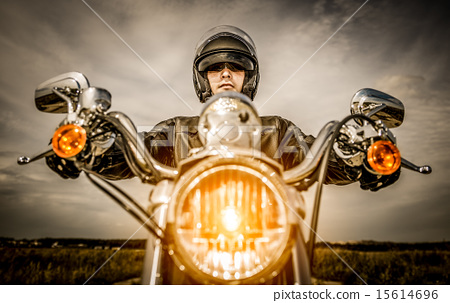helmet: (191, 28, 273, 99)
